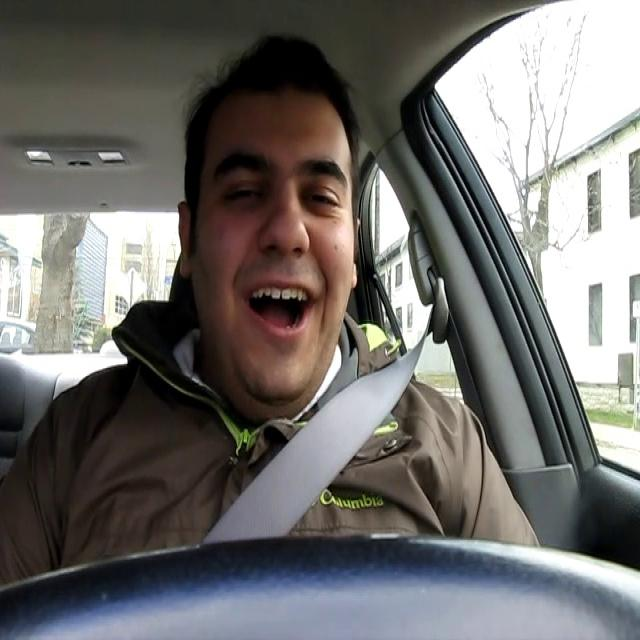open: (242, 276, 321, 343)
